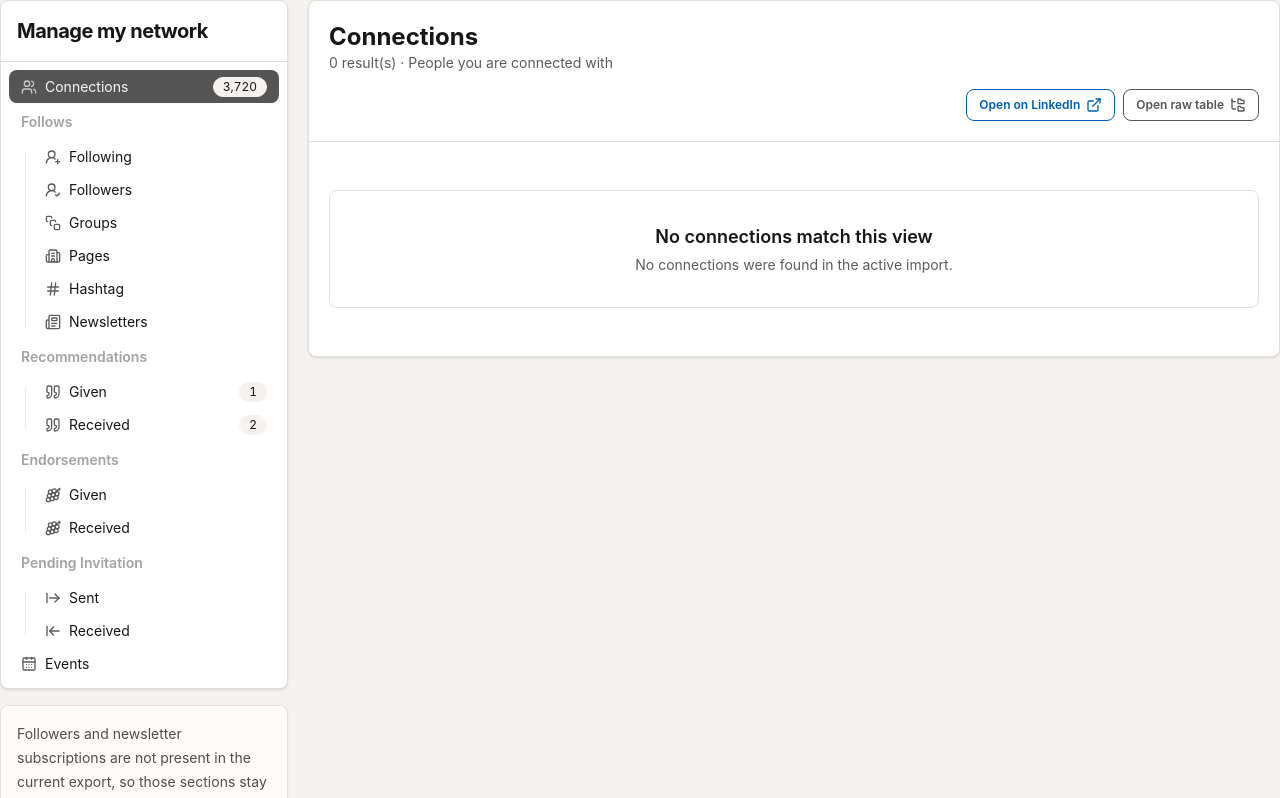
NetworkPage › renders split recommendation views from the rail
Expected: the button named "Recommendations given" is shown, [33,375,279,408]
Click the button named "Recommendations received": {"x": 156, "y": 424} [33,408,279,441]
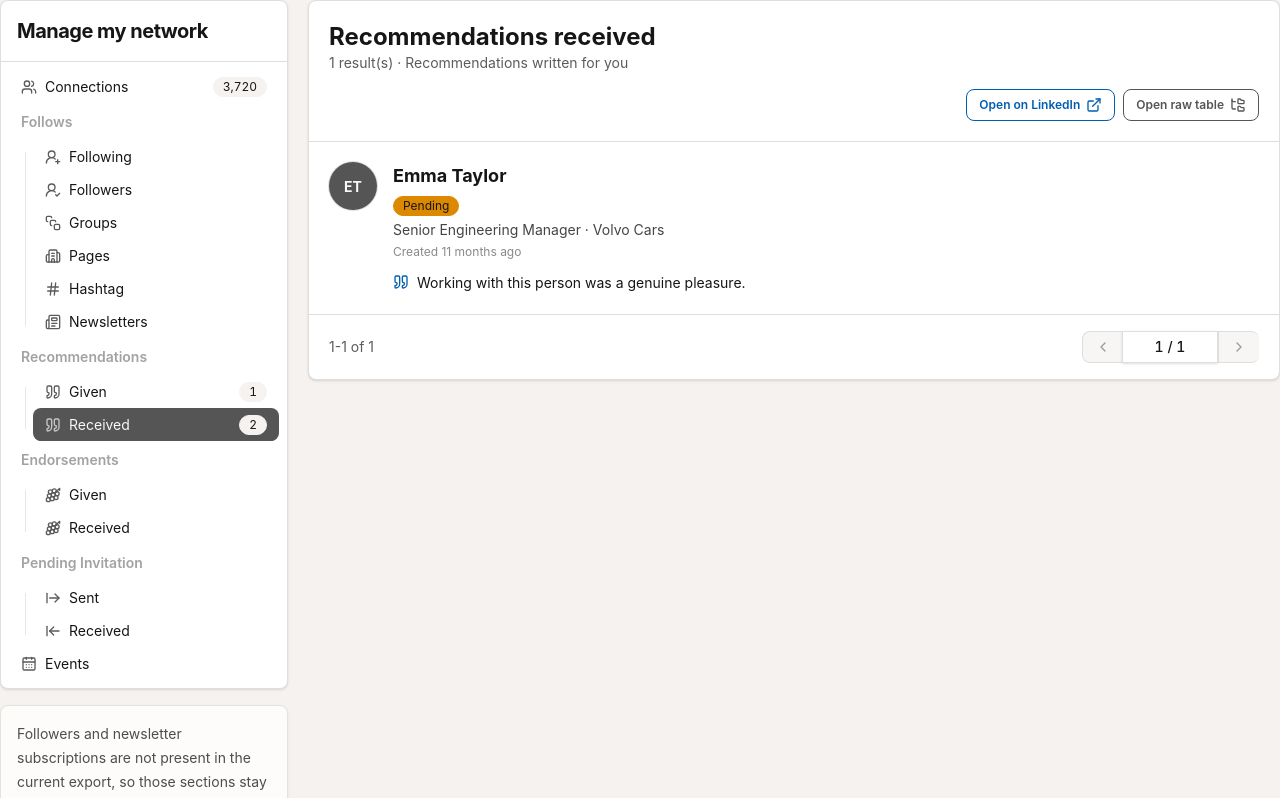
Result: the heading "Recommendations received" is shown at [329,22,656,51]
Result: the heading "Emma Taylor" is shown at [393,165,506,186]
Result: the text "Senior Engineering Manager · Volvo Cars" is shown at [393,221,664,238]
Click the button named "Recommendations given": {"x": 156, "y": 392} [33,375,279,408]
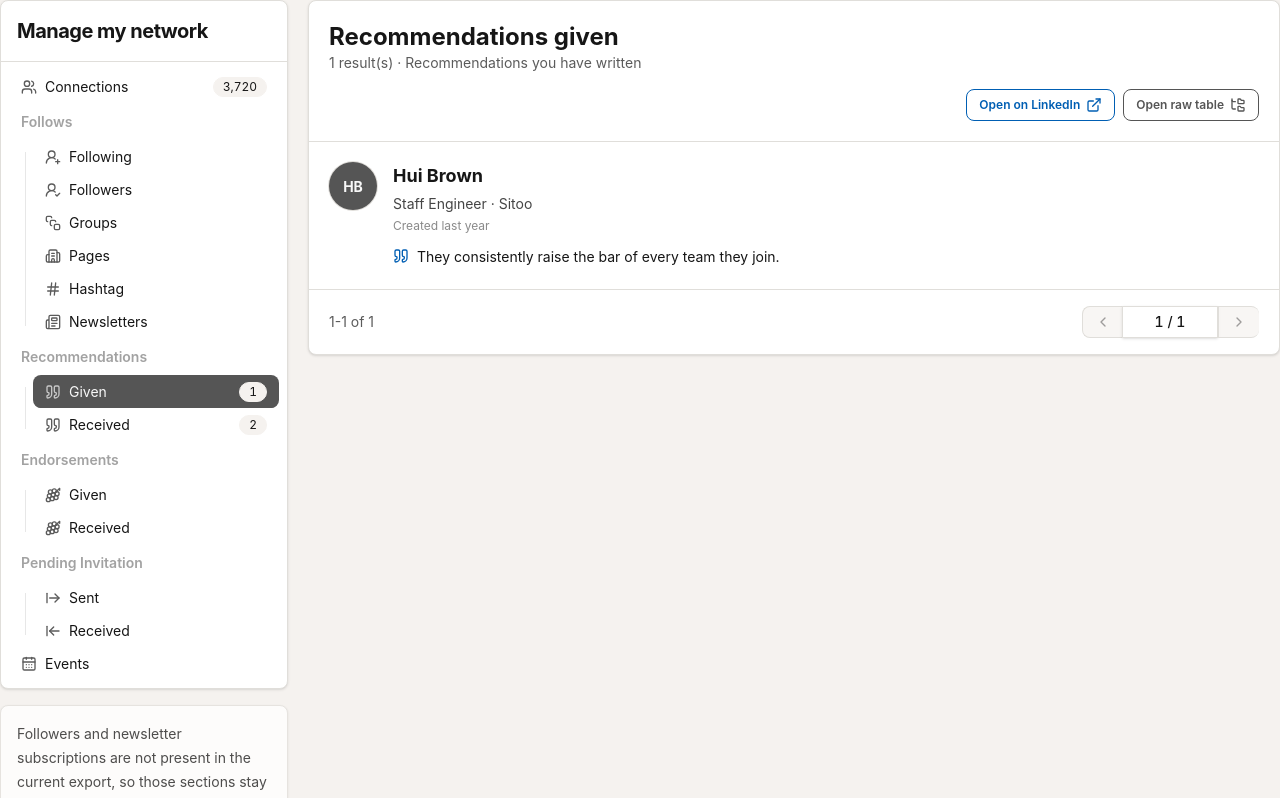
Result: the heading "Recommendations given" is shown at [329,22,619,51]
Result: the heading "Hui Brown" is shown at [393,165,483,186]
Result: the text "Staff Engineer · Sitoo" is shown at [393,195,532,212]
